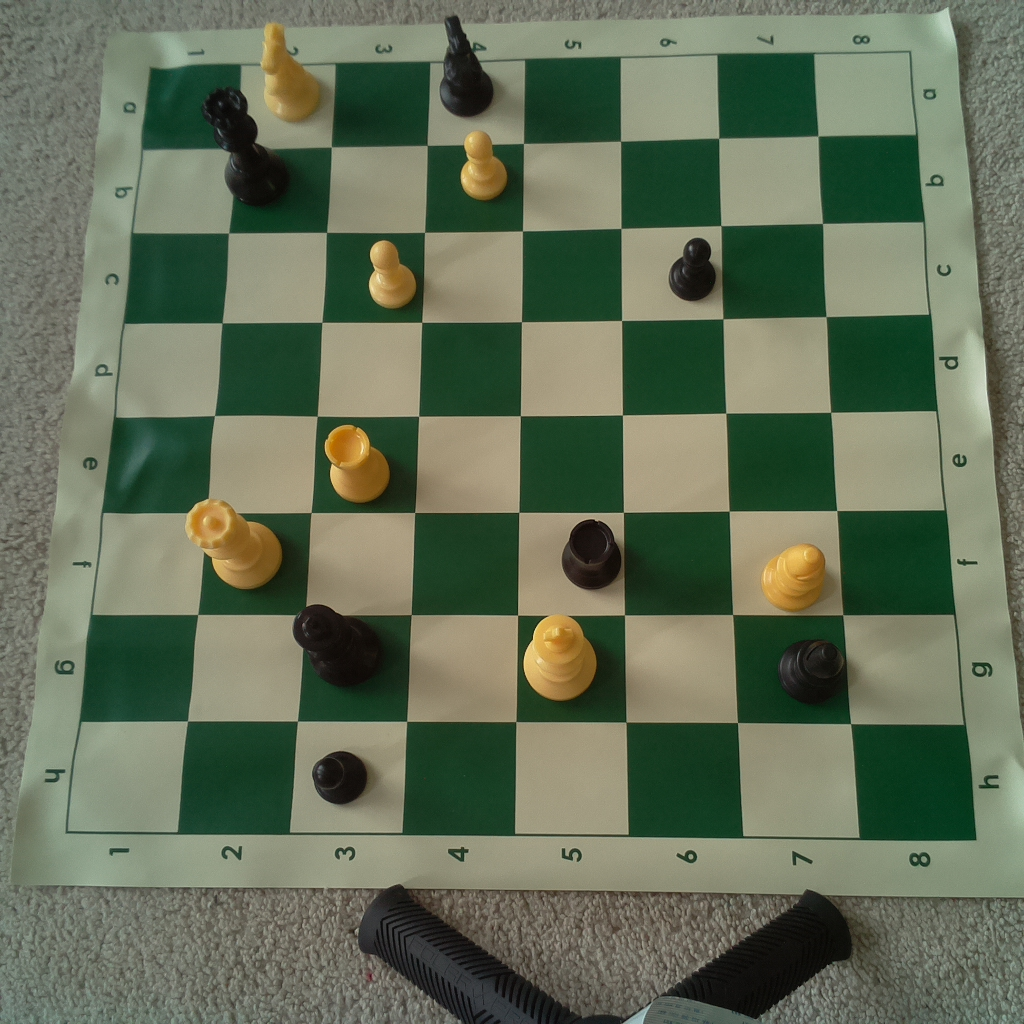black_bishop: (775, 632, 850, 706)
black_king: (292, 599, 384, 691)
black_knight: (424, 12, 502, 118)
black_pawn: (664, 228, 719, 305), (314, 747, 375, 806)
black_queen: (197, 86, 292, 212)
black_rook: (555, 510, 624, 593)
file_a: (142, 52, 919, 148)
file_b: (134, 136, 925, 232)
file_c: (121, 223, 931, 327)
file_d: (115, 317, 936, 418)
file_e: (102, 409, 945, 513)
file_f: (89, 512, 958, 614)
file_g: (79, 614, 967, 725)
file_h: (64, 722, 975, 838)
outline: (68, 54, 975, 836)
rank_1: (67, 62, 245, 832)
rank_2: (177, 64, 336, 835)
rank_3: (286, 61, 431, 834)
rank_4: (401, 60, 528, 834)
rank_5: (514, 57, 629, 835)
rank_6: (619, 57, 744, 839)
rank_7: (719, 56, 860, 835)
rank_8: (812, 54, 977, 840)
white_bishop: (754, 532, 832, 614)
white_king: (518, 606, 599, 704)
white_knight: (250, 19, 325, 122)
white_pawn: (362, 234, 420, 310), (457, 128, 514, 200)
white_queen: (183, 493, 286, 592)
white_rook: (318, 421, 394, 502)
